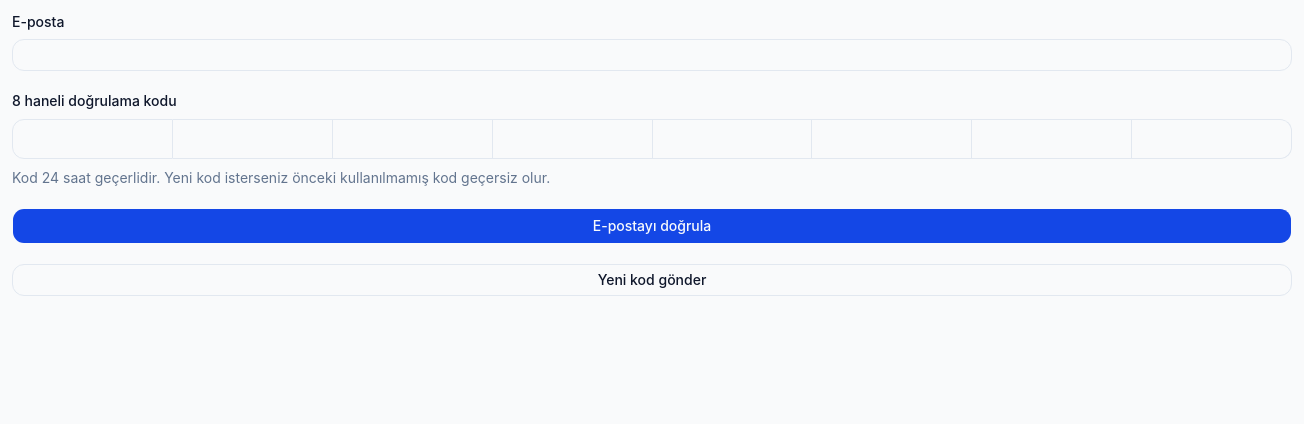
EmailVerificationForm › uses a generic resend message and validates email before requesting a code
Click the button "Yeni kod gönder": [652, 280] box x1=12 y1=264 x2=1292 y2=296
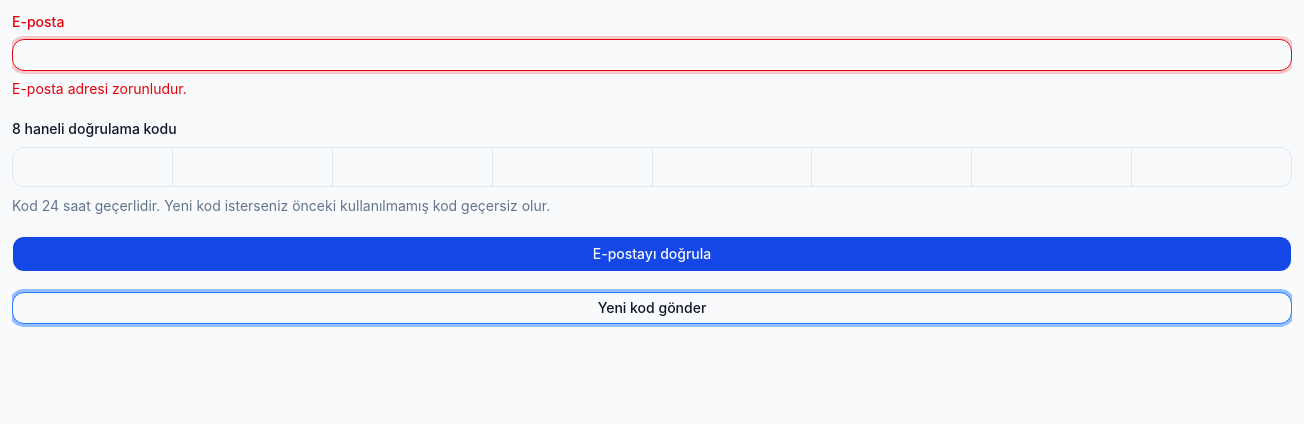
Result: the text "E-posta adresi zorunludur." is shown at x1=12 y1=80 x2=187 y2=97
In the field labelled "E-posta": [652, 55] box x1=12 y1=39 x2=1292 y2=71, type "user@example.com"
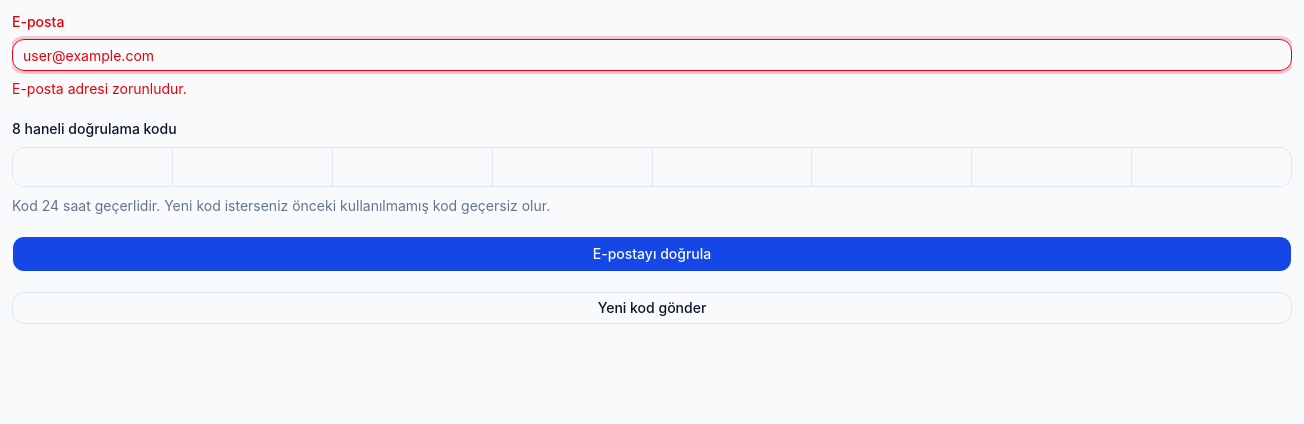
Click the button "Yeni kod gönder": [652, 308] box x1=12 y1=292 x2=1292 y2=324
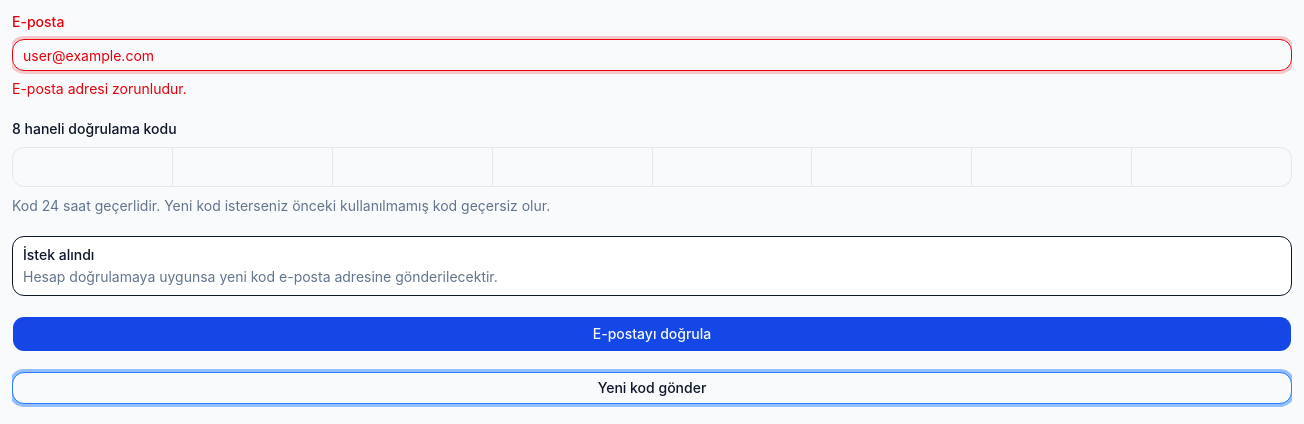
Result: the text "Hesap doğrulamaya uygunsa yeni kod e-posta adresine gönderilecektir." is shown at x1=23 y1=268 x2=498 y2=284
